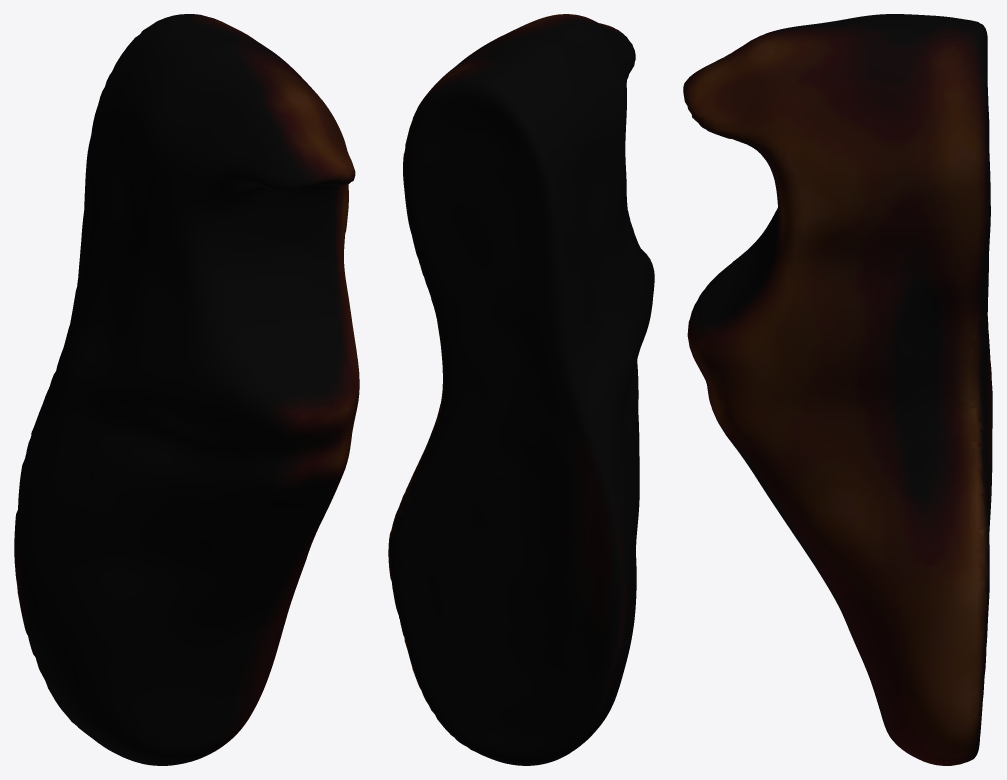
File: shoe3.glb
The picture shows the model from 3 angles, left to right: view 1: azimuth 30°, elevation 25°; view 2: azimuth 150°, elevation 25°; view 3: azimuth 270°, elevation 25°; orthographic projection. The views are drawn at different scales.
Bounding box in the file's own units: 0.3632 × 0.9996 × 0.3775.
